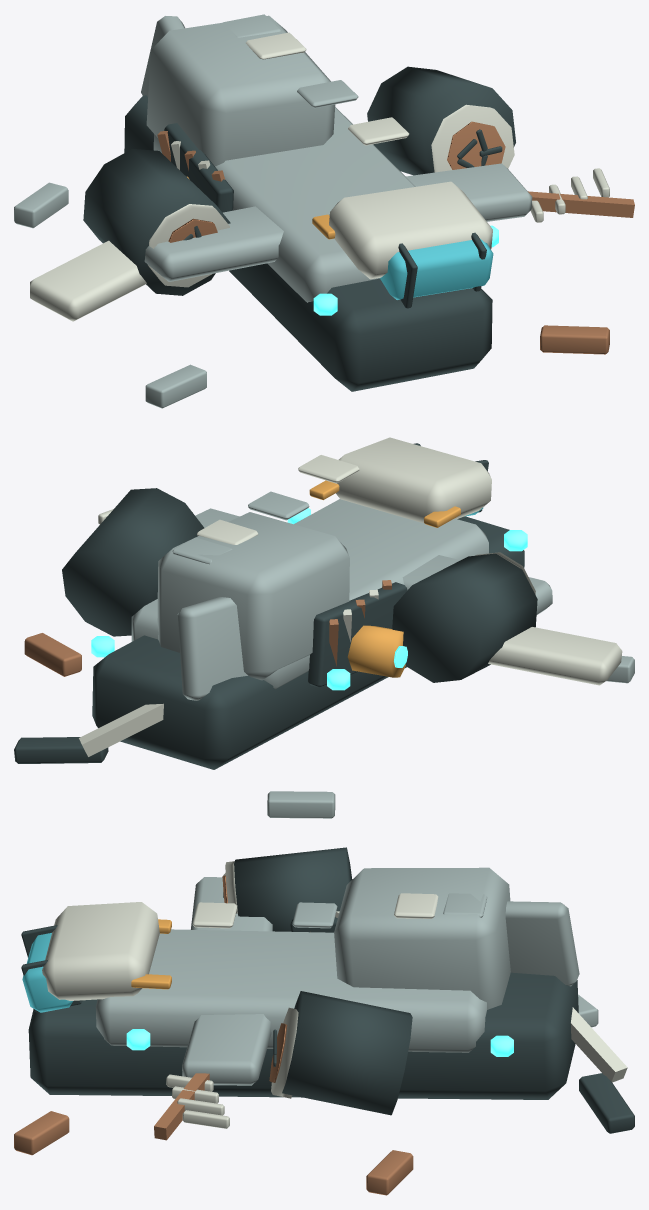
Rendered from crashed-dropship.glb.
3 renders of one model, top to bottom at view 1: azimuth 30°, elevation 25°; view 2: azimuth 150°, elevation 25°; view 3: azimuth 270°, elevation 25°, orthographic. The views are drawn at different scales.
Parts seen in each view (by area): view 1: Wreck Dust worn pale alloy, Wreck Burnt graphite, Wreck Bright torn metal, Wreck Oxidized copper, Tinted cockpit glazing, Wreck Fading signal lamp; view 2: Wreck Burnt graphite, Wreck Dust worn pale alloy, Wreck Bright torn metal, Wreck Old safety amber, Wreck Oxidized copper, Wreck Fading signal lamp; view 3: Wreck Dust worn pale alloy, Wreck Burnt graphite, Wreck Bright torn metal, Wreck Oxidized copper, Tinted cockpit glazing, Wreck Fading signal lamp, Wreck Old safety amber.
Boxes of the visible parts, box(x1,y1,x2,y2) form: Wreck Dust worn pale alloy: box(14, 14, 532, 408); Wreck Burnt graphite: box(83, 66, 515, 391); Wreck Bright torn metal: box(30, 32, 609, 321); Wreck Oxidized copper: box(157, 121, 634, 354); Tinted cockpit glazing: box(380, 238, 493, 299); Wreck Fading signal lamp: box(313, 225, 498, 315); Wreck Burnt graphite: box(14, 443, 537, 769); Wreck Dust worn pale alloy: box(131, 491, 634, 818); Wreck Bright torn metal: box(79, 437, 622, 756); Wreck Old safety amber: box(309, 480, 460, 677); Wreck Oxidized copper: box(24, 580, 391, 676); Wreck Fading signal lamp: box(91, 508, 527, 690); Wreck Dust worn pale alloy: box(95, 867, 598, 1085); Wreck Burnt graphite: box(21, 847, 634, 1133); Wreck Bright torn metal: box(42, 861, 627, 1128); Wreck Oxidized copper: box(14, 875, 413, 1195); Tinted cockpit glazing: box(22, 933, 73, 1012); Wreck Fading signal lamp: box(126, 1029, 513, 1056); Wreck Old safety amber: box(131, 919, 171, 989).
Bounding box in the file's own units: 3.95 × 1.34 × 3.98.
